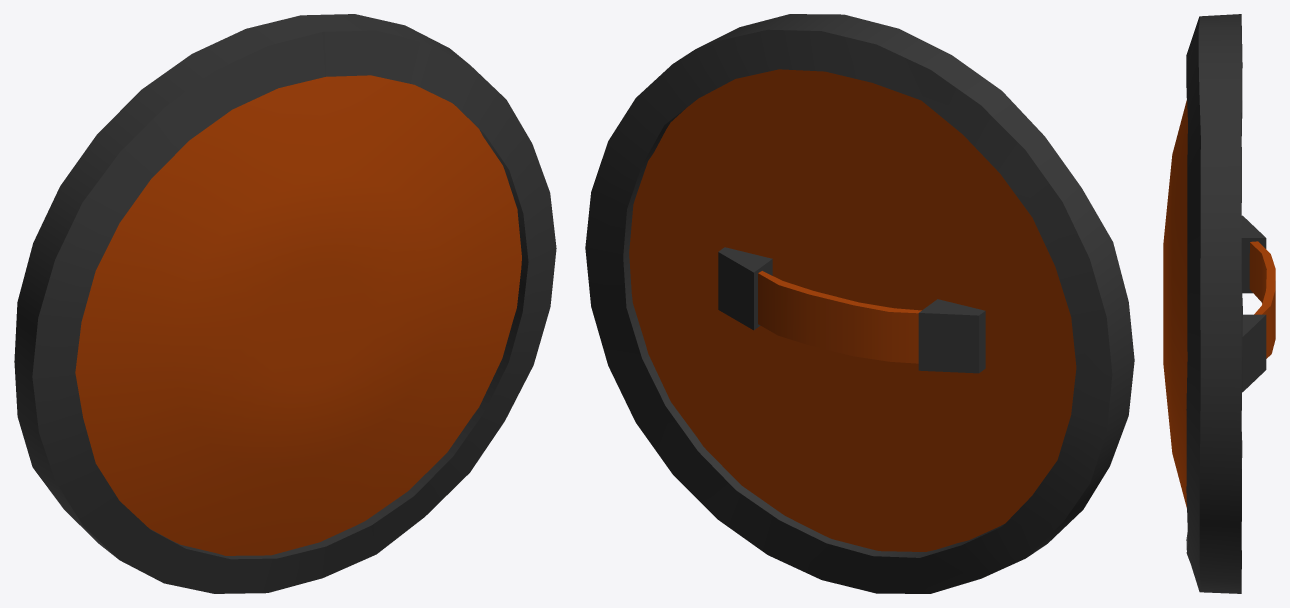
The model's file is NLS_DUO Buckler.fbx.
The picture shows the model from 3 angles, left to right: view 1: azimuth 30°, elevation 25°; view 2: azimuth 150°, elevation 25°; view 3: azimuth 270°, elevation 25°; orthographic projection. The views are drawn at different scales.
Parts seen in each view (by area): view 1: NLS_DUO Buckler; view 2: NLS_DUO Buckler; view 3: NLS_DUO Buckler.
Part boxes in pixels (<box>): NLS_DUO Buckler: <box>14,14,556,593</box>; NLS_DUO Buckler: <box>585,14,1134,593</box>; NLS_DUO Buckler: <box>1163,14,1275,593</box>.
Bounding box in the file's own units: 98.4 × 97.94 × 19.03.
